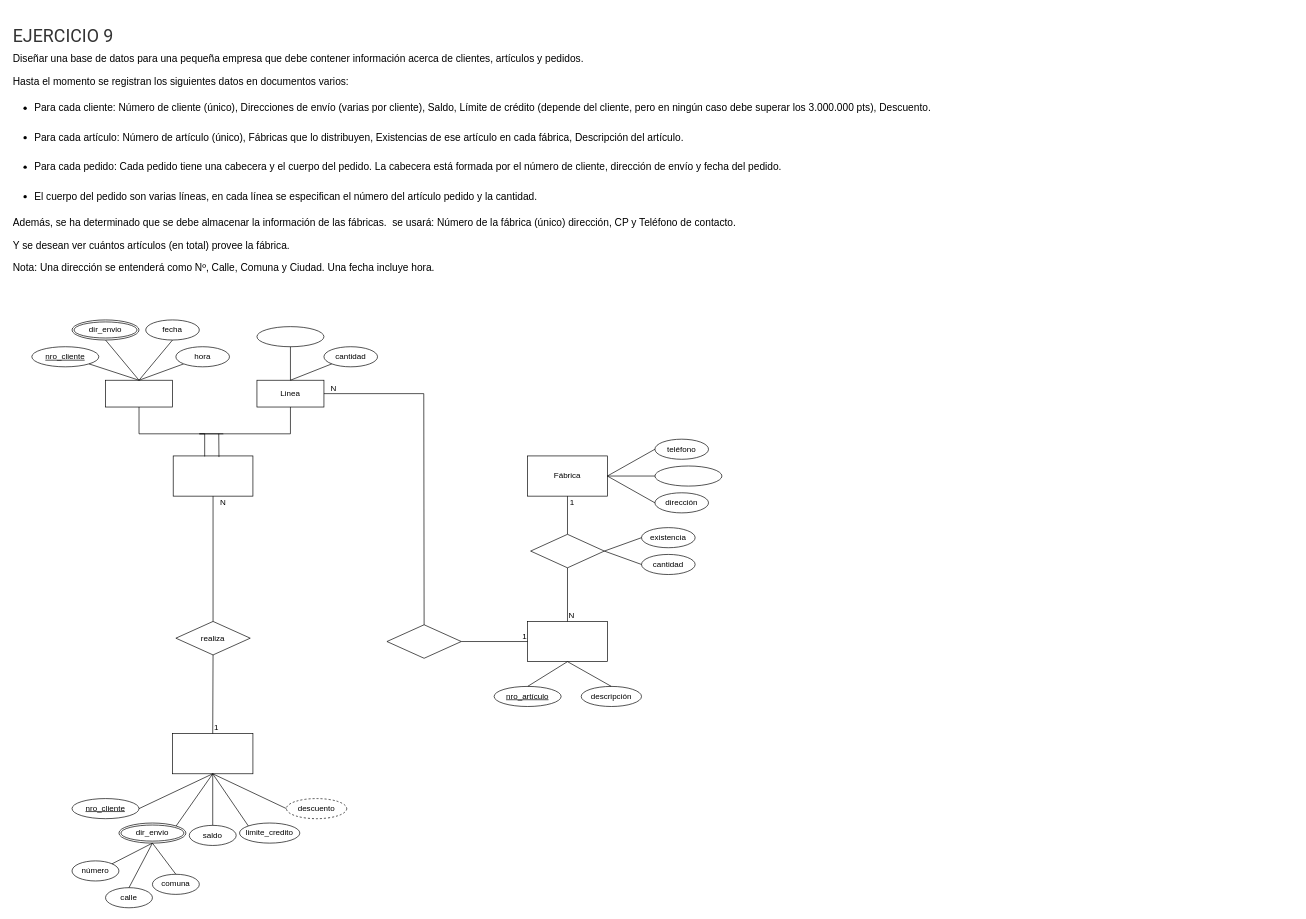
The diagram is 1306 pixels wide and 919 high, and some of its shapes have lost their labels. Here are the shapes that lost their labels. From the top down, the box of each, then its label:
(256, 326, 324, 347): nro_linea
(105, 380, 173, 407): Cabezera
(173, 455, 253, 496): Pedido
(654, 465, 722, 486): nro_fábrica
(530, 534, 604, 568): Distribuye
(386, 624, 461, 658): Tiene
(527, 621, 607, 662): Artículo
(172, 733, 253, 774): Cliente
